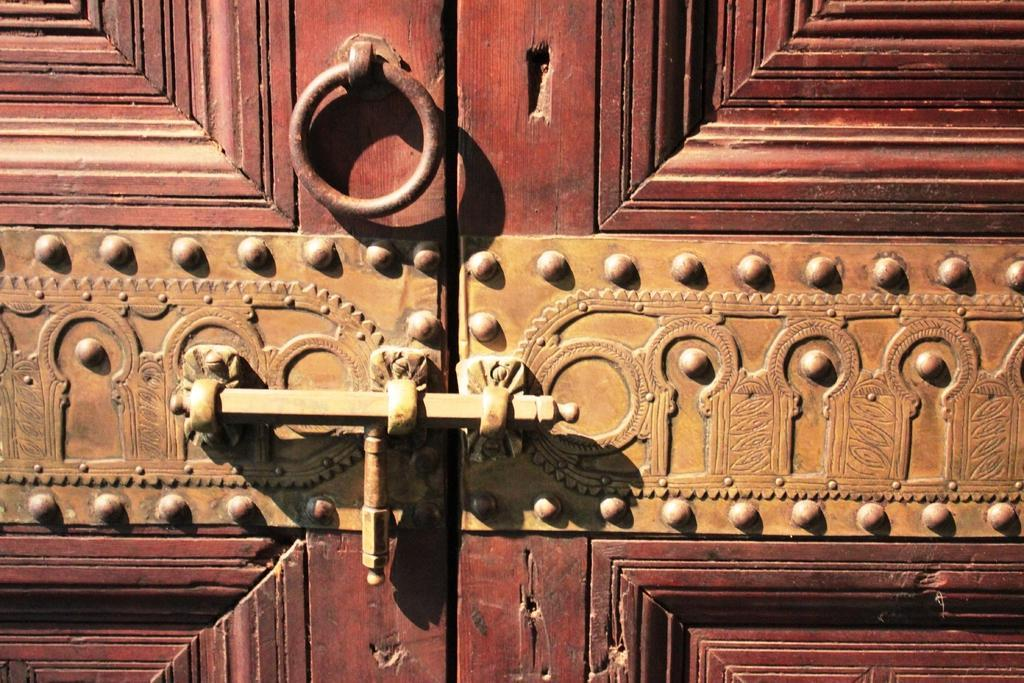door: (474, 5, 1018, 672), (0, 4, 441, 680)
handle: (280, 51, 462, 236)
